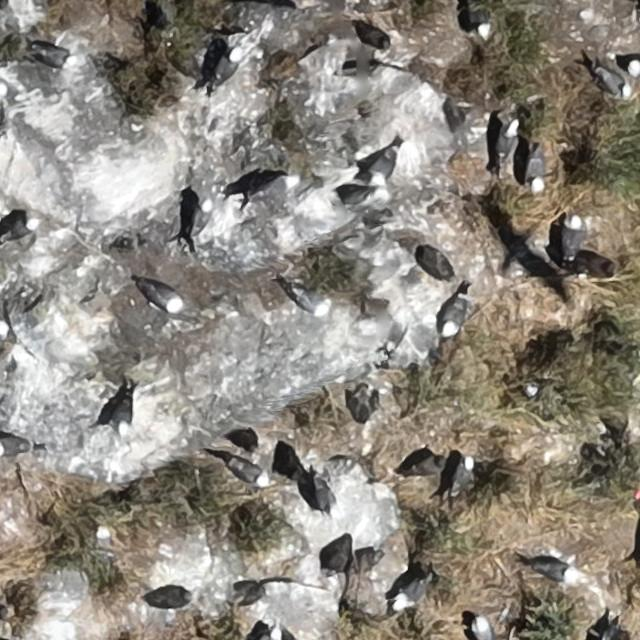umineko: (486, 120, 520, 178), (243, 176, 297, 206), (189, 198, 214, 242), (394, 579, 426, 607), (564, 217, 585, 258), (149, 285, 182, 311), (468, 3, 490, 42), (231, 460, 265, 485), (369, 151, 394, 184), (599, 70, 629, 97), (296, 290, 328, 315), (2, 219, 36, 241), (444, 301, 466, 335), (535, 562, 572, 582), (450, 461, 472, 494), (36, 46, 70, 66), (214, 54, 237, 81), (526, 155, 543, 191), (335, 189, 370, 206), (312, 480, 329, 513), (115, 399, 132, 431), (0, 438, 27, 456), (474, 618, 494, 640), (96, 528, 110, 552), (628, 58, 639, 79)
